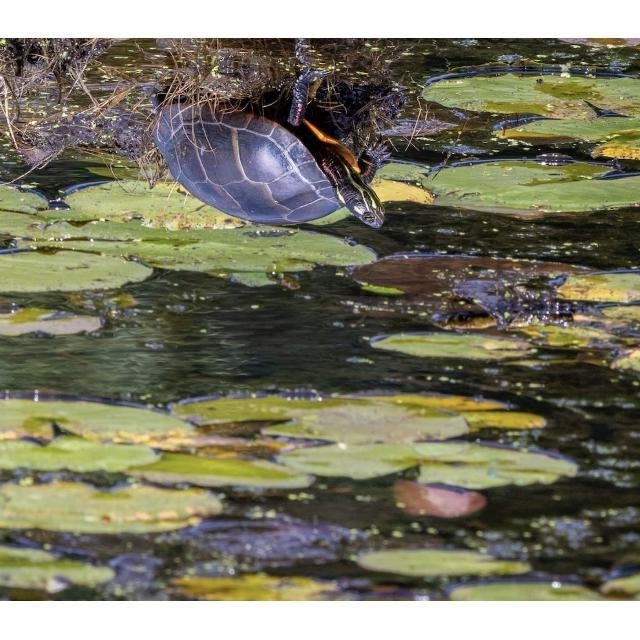turtle: (151, 63, 393, 230)
